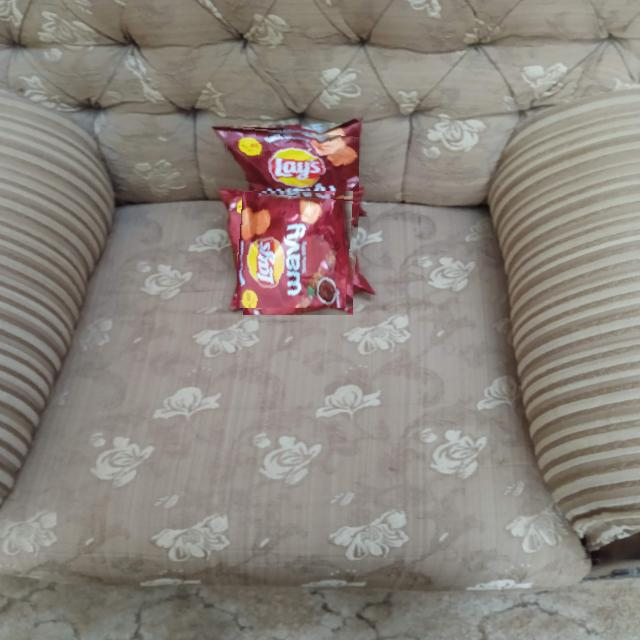Plastic: (237, 185, 360, 308), (224, 126, 359, 191)
